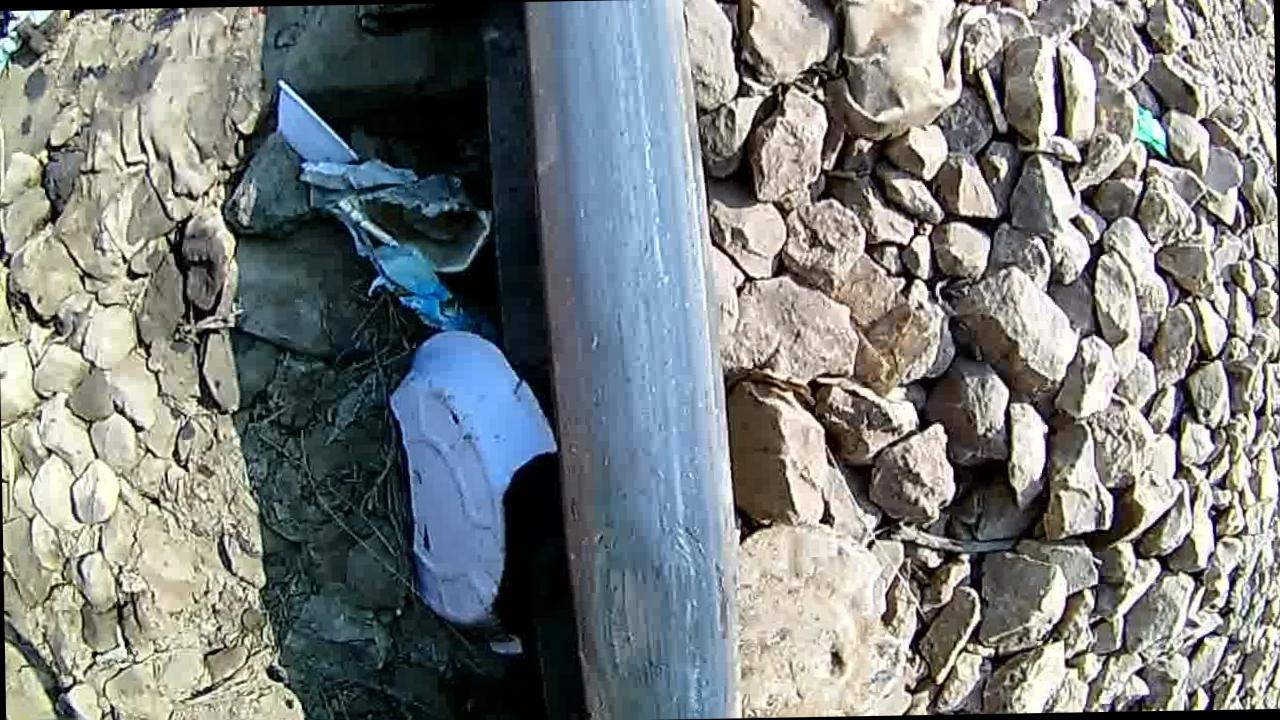bolt_missing: (539, 408, 758, 720)
